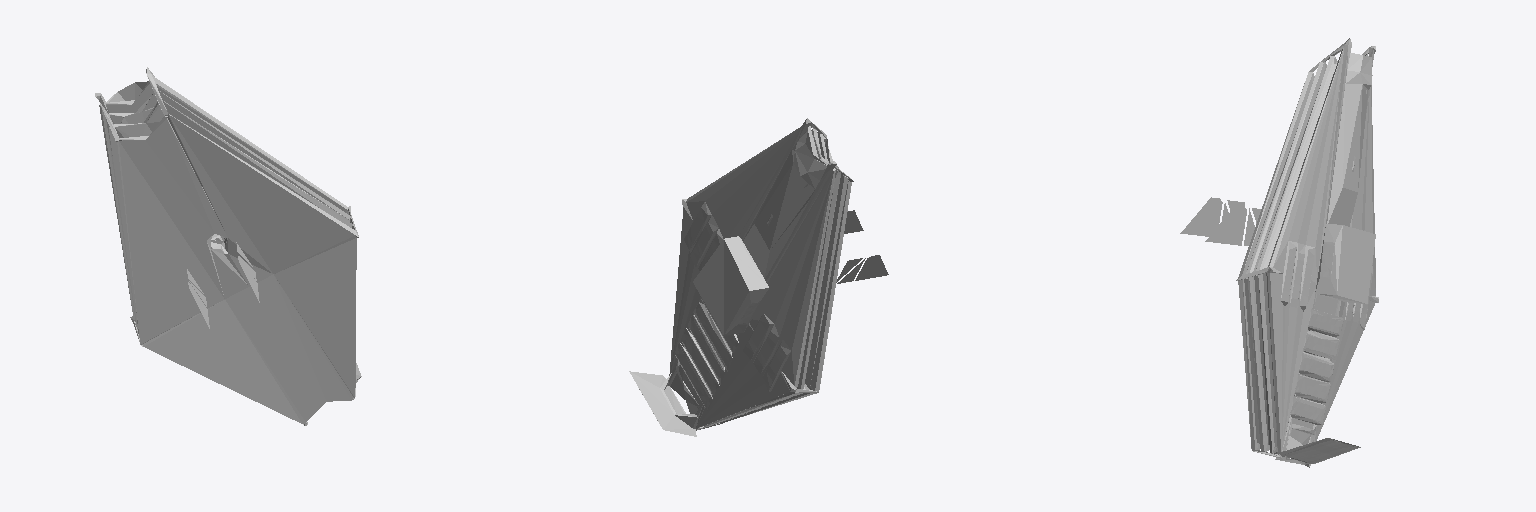
The model's file is panels.obj.
The picture shows the model from 3 angles: view 1: azimuth 30°, elevation 25°; view 2: azimuth 150°, elevation 25°; view 3: azimuth 270°, elevation 25°; orthographic projection.
Size of the model in its own units: 47.76 by 72.37 by 35.89.